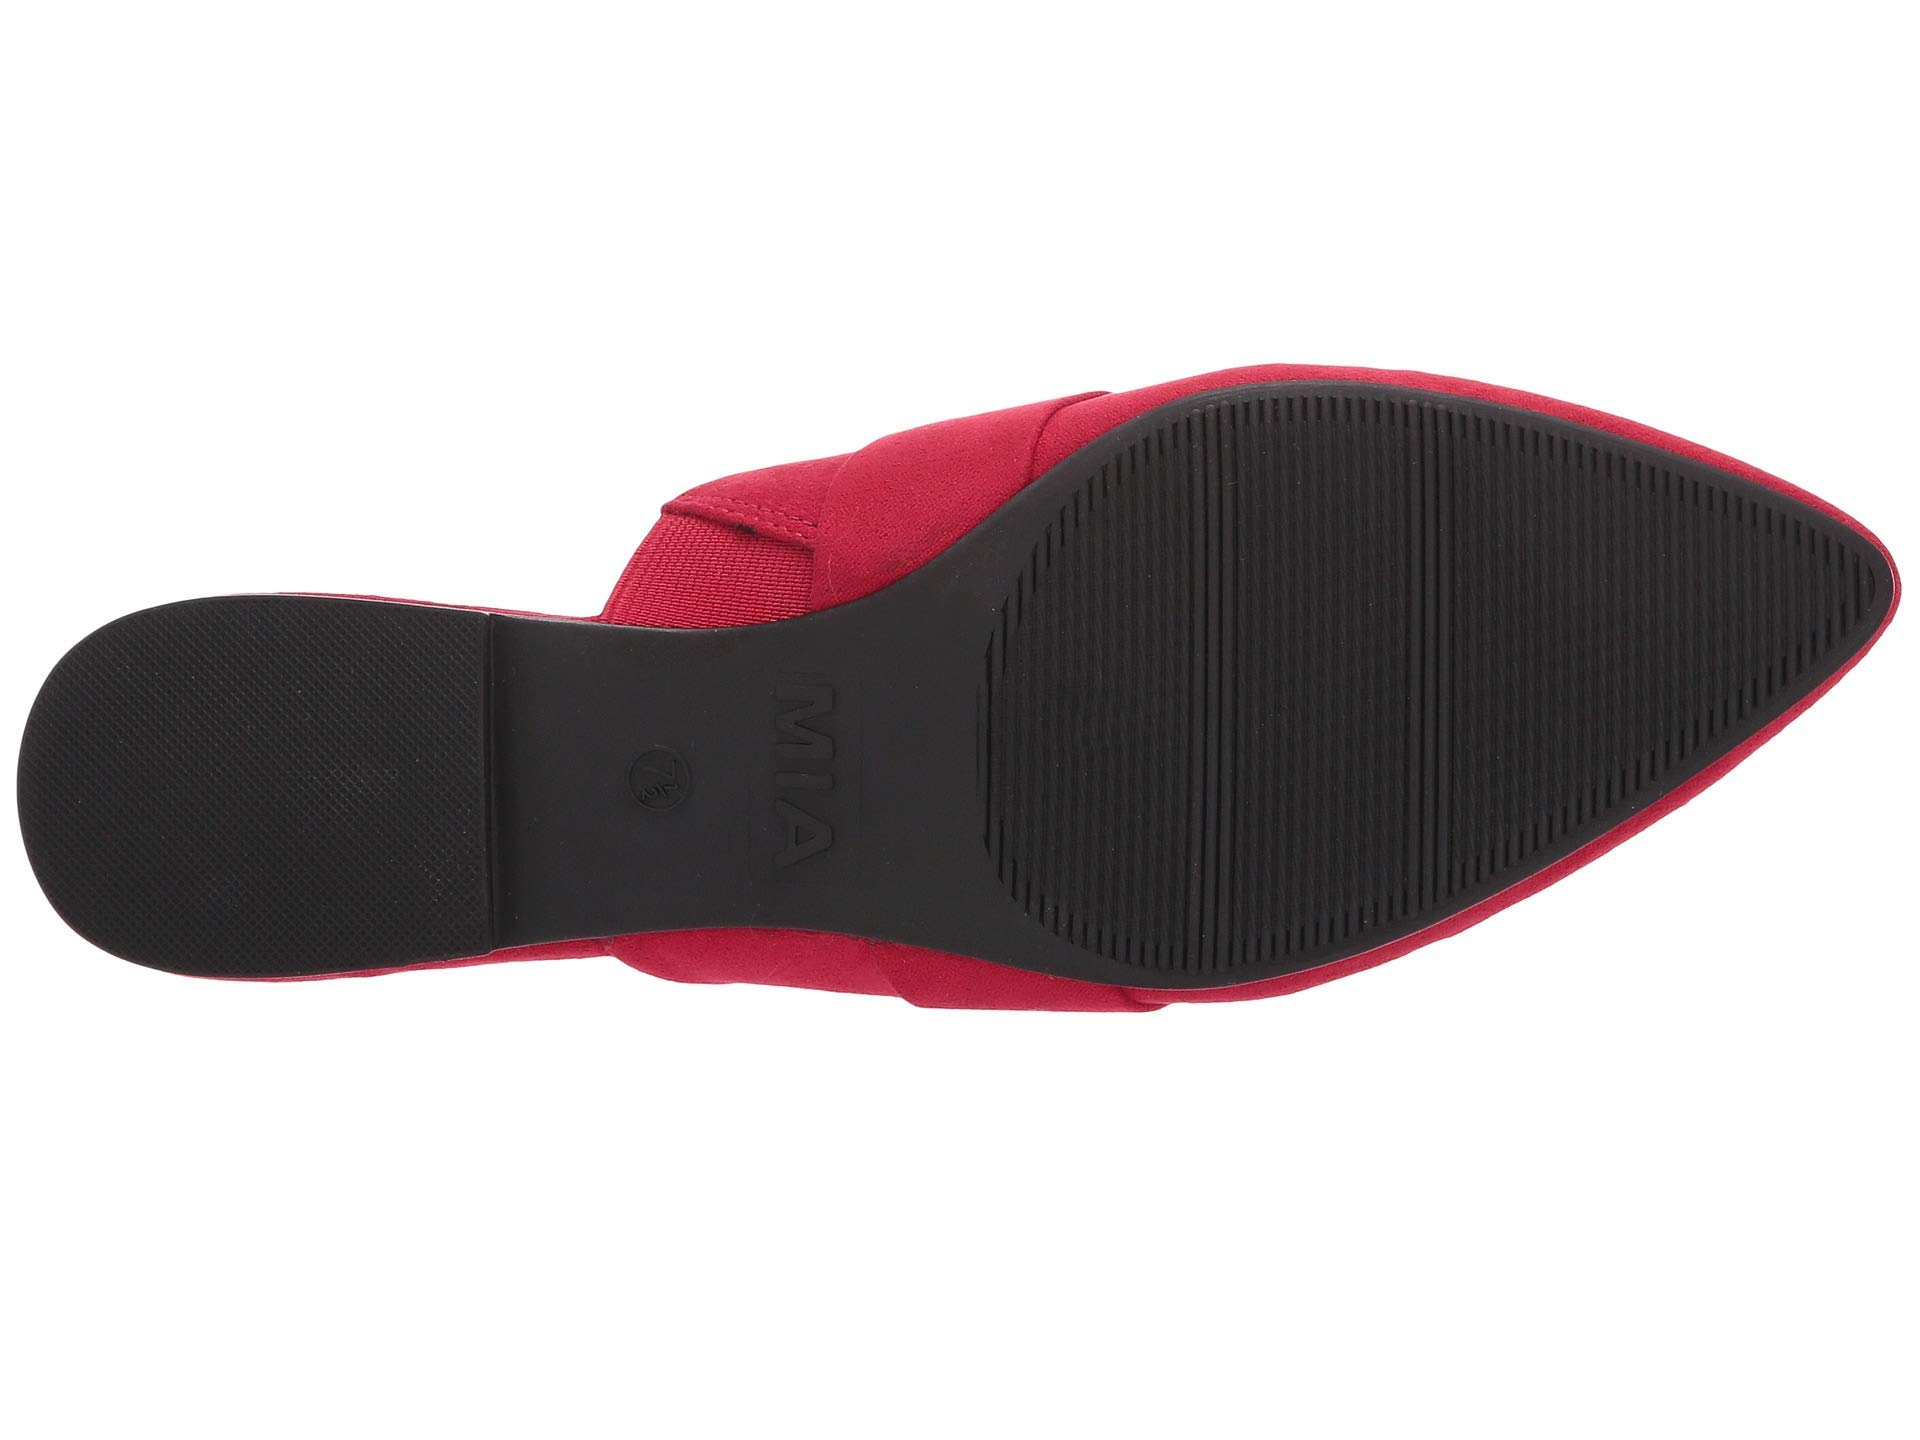circle: (608, 715, 708, 843)
line: (1039, 460, 1451, 841), (1512, 476, 1746, 722)
text: (739, 653, 878, 895), (608, 715, 708, 843)
